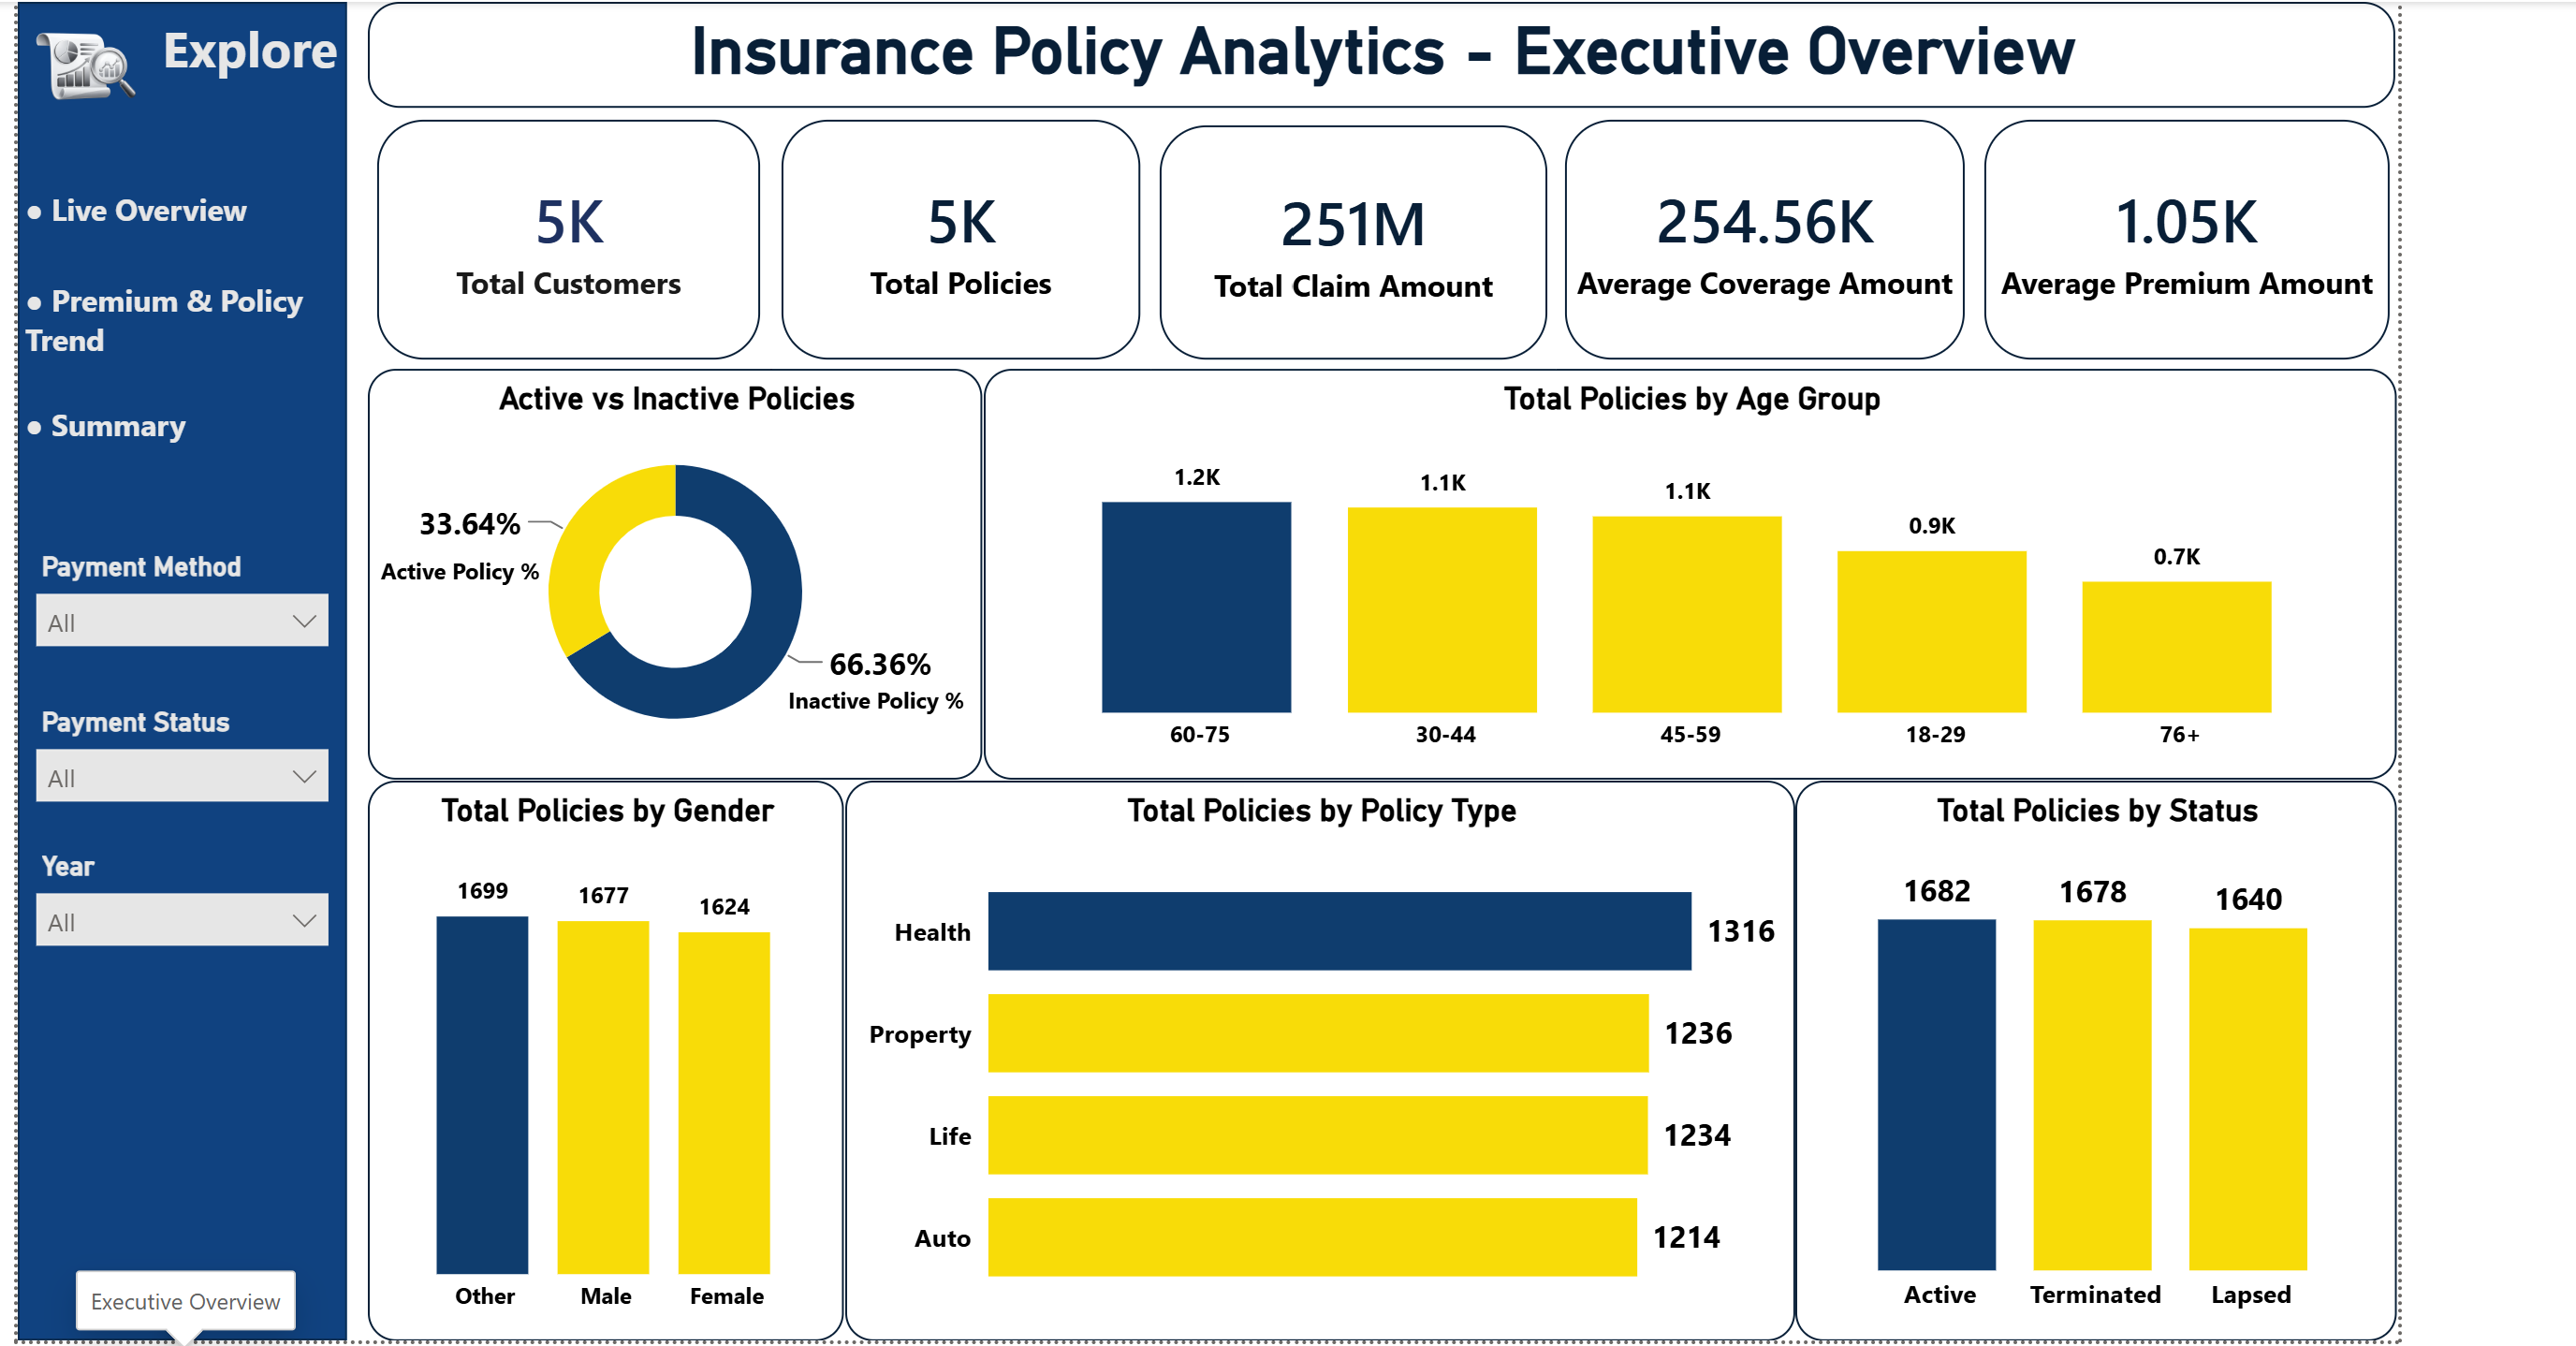

The page's visual inventory and layout, read from the dashboard file:
{"tool":"powerbi","page":{"name":"Executive Overview","canvas":[1280,720],"ordinal":0},"visuals":[{"type":"clusteredColumnChart","fields":{"Category":["Customer Information.Gender"],"Y":["Policy Details.Total Policies"]},"box":[188.8,418.5,256.1,301.5],"z":0},{"type":"clusteredBarChart","fields":{"Category":["Policy Details.Policy Type"],"Y":["Policy Details.Total Policies"]},"box":[444.9,418.5,510.7,301.5],"z":1000},{"type":"clusteredColumnChart","fields":{"Category":["Policy Details.Status"],"Y":["Policy Details.Total Policies"]},"box":[955.6,418.5,323.4,301.5],"z":2000},{"type":"textbox","title":"Insurance Policy Analytics - Executive Overview","box":[188.8,0,1090.2,57.1],"z":3000},{"type":"clusteredColumnChart","fields":{"Category":["Customer Information.Age Group"],"Y":["Policy Details.Total Policies"]},"box":[519.5,197.6,759.5,221],"z":4000},{"type":"shape","box":[0,0,177.1,720],"z":5000},{"type":"donutChart","title":"Active vs Inactive Policies","fields":{"Category":["Policy Details.Status Group"],"Y":["Policy Details.Total Policies"]},"box":[188.8,197.6,330.7,221],"z":6000},{"type":"slicer","fields":{"Values":["Payment History.Payment Method"]},"box":[0,289.8,177.1,83.4],"z":7000},{"type":"slicer","fields":{"Values":["Payment History.Payment Status"]},"box":[0,373.2,177.1,77.6],"z":8000},{"type":"textbox","box":[177.1,291.2,121.5,41],"z":9000},{"type":"textbox","box":[390.7,360,142,32.2],"z":10000},{"type":"actionButton","box":[0,82,188.8,58.5],"z":11000},{"type":"actionButton","box":[0,197.6,188.8,58.5],"z":12000},{"type":"actionButton","box":[0,140.5,188.8,58.5],"z":13000},{"type":"cardVisual","fields":{"Data":["Policy Details.Total Customers"]},"box":[188.8,58.5,216.6,139],"z":14000},{"type":"cardVisual","fields":{"Data":["Policy Details.Total Claim Amount"]},"box":[608.8,61.5,218,136.1],"z":15000},{"type":"cardVisual","fields":{"Data":["Policy Details.Average Coverage Amount"]},"box":[826.8,58.5,225.4,139],"z":16000},{"type":"cardVisual","fields":{"Data":["Policy Details.Average Premium Amount"]},"box":[1052.2,58.5,228.3,139],"z":17000},{"type":"cardVisual","fields":{"Data":["Policy Details.Total Policies"]},"box":[405.4,58.5,203.4,139],"z":18000},{"type":"textbox","box":[0,1.5,177.1,68.8],"z":19000},{"type":"image","box":[0,0,70.2,70.2],"z":20000},{"type":"slicer","fields":{"Values":["DateTable.Year"]},"box":[0,450.7,177.1,74.6],"z":21000}]}

Visuals, with their boxes on the page's 1280x720 design canvas (x1, y1, x2, y2). These are canvas units, not pixel positions in the 2576x1346 screenshot, which may show the page scaled, cropped or inside an application window:
clusteredColumnChart - Customer Information.Gender x Policy Details.Total Policies: (189,418,445,720)
clusteredBarChart - Policy Details.Policy Type x Policy Details.Total Policies: (445,418,956,720)
clusteredColumnChart - Policy Details.Status x Policy Details.Total Policies: (956,418,1279,720)
"Insurance Policy Analytics - Executive Overview" textbox: (189,0,1279,57)
clusteredColumnChart - Customer Information.Age Group x Policy Details.Total Policies: (520,198,1279,419)
shape: (0,0,177,720)
"Active vs Inactive Policies" donutChart: (189,198,520,419)
slicer - Payment History.Payment Method: (0,290,177,373)
slicer - Payment History.Payment Status: (0,373,177,451)
textbox: (177,291,299,332)
textbox: (391,360,533,392)
actionButton: (0,82,189,140)
actionButton: (0,198,189,256)
actionButton: (0,140,189,199)
cardVisual - Policy Details.Total Customers: (189,58,405,198)
cardVisual - Policy Details.Total Claim Amount: (609,62,827,198)
cardVisual - Policy Details.Average Coverage Amount: (827,58,1052,198)
cardVisual - Policy Details.Average Premium Amount: (1052,58,1280,198)
cardVisual - Policy Details.Total Policies: (405,58,609,198)
textbox: (0,2,177,70)
image: (0,0,70,70)
slicer - DateTable.Year: (0,451,177,525)
